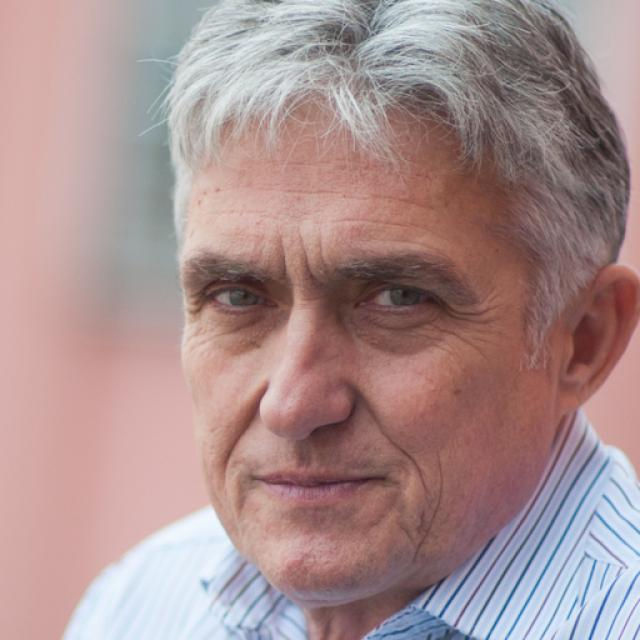Wrinkle: (351, 383, 436, 491), (259, 173, 449, 219), (397, 452, 450, 565), (320, 206, 435, 242)
